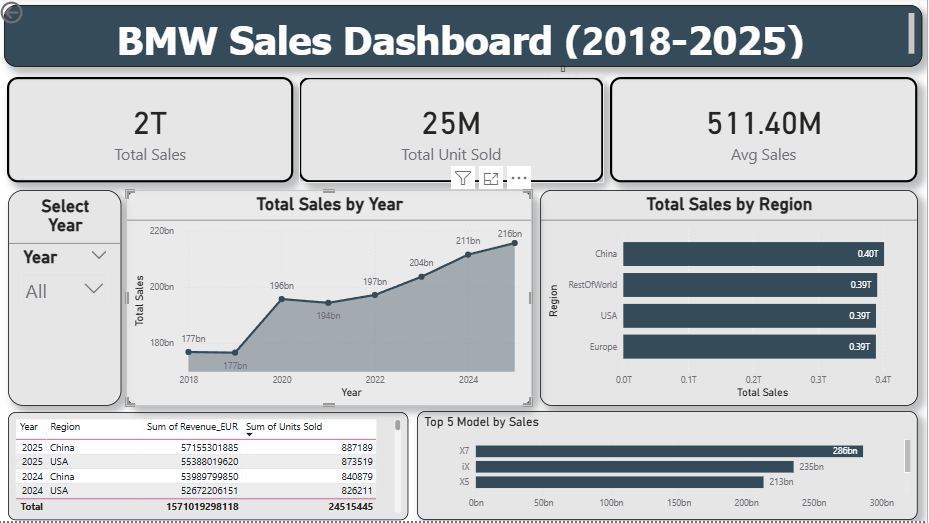

Layout of this report page (visuals, bound fields, positions):
{"tool":"powerbi","page":{"name":"Page 1","canvas":[1280,720],"ordinal":0},"visuals":[{"type":"card","fields":{"Values":["bmw_global_sales_2018_2025.Total_sales"]},"box":[14.4,108.7,394,145.3],"z":0},{"type":"card","fields":{"Values":["bmw_global_sales_2018_2025.Total_Unit"]},"box":[416.3,108.7,418.9,145.3],"z":1000},{"type":"card","fields":{"Values":["bmw_global_sales_2018_2025.Avg_Sales"]},"box":[843.1,108.7,422.8,145.3],"z":2000},{"type":"textbox","box":[10.1,10.1,1264.3,85],"z":3000},{"type":"lineChart","fields":{"Category":["bmw_global_sales_2018_2025.Year"],"Y":["bmw_global_sales_2018_2025.Total_sales"]},"box":[178,264.4,559,297.2],"z":4000},{"type":"barChart","title":"Total Sales by Region","fields":{"Category":["bmw_global_sales_2018_2025.Region"],"Y":["bmw_global_sales_2018_2025.Total Sales"]},"box":[747.5,264.4,519.7,297.2],"z":5000},{"type":"actionButton","box":[0,0,100,40],"z":6000},{"type":"slicer","title":"Select Year","fields":{"Values":["bmw_global_sales_2018_2025.Year"]},"box":[15.7,264.4,155.8,297.2],"z":7000},{"type":"tableEx","fields":{"Values":["bmw_global_sales_2018_2025.Year","bmw_global_sales_2018_2025.Region","Sum(bmw_global_sales_2018_2025.Revenue_EUR)","Sum(bmw_global_sales_2018_2025.Units Sold)"]},"box":[15.7,569.5,551.1,149.2],"z":8000},{"type":"clusteredBarChart","title":"Top 5 Model by Sales","fields":{"Category":["bmw_global_sales_2018_2025.Model"],"Y":["Sum(bmw_global_sales_2018_2025.Revenue_EUR)"]},"box":[577.7,568.9,689.1,149.6],"z":9000}]}

Visuals, with their boxes in screenshot pixels (x1, y1, x2, y2), scaled from the page's 1280x720 canvas onto the 929x523 screenshot:
card - bmw_global_sales_2018_2025.Total_sales: rect(10, 79, 296, 185)
card - bmw_global_sales_2018_2025.Total_Unit: rect(302, 79, 606, 185)
card - bmw_global_sales_2018_2025.Avg_Sales: rect(612, 79, 919, 185)
textbox: rect(7, 7, 925, 69)
lineChart - bmw_global_sales_2018_2025.Year x bmw_global_sales_2018_2025.Total_sales: rect(129, 192, 535, 408)
"Total Sales by Region" barChart: rect(543, 192, 920, 408)
actionButton: rect(0, 0, 73, 29)
"Select Year" slicer: rect(11, 192, 124, 408)
tableEx - bmw_global_sales_2018_2025.Year x bmw_global_sales_2018_2025.Region: rect(11, 414, 411, 522)
"Top 5 Model by Sales" clusteredBarChart: rect(419, 413, 919, 522)
